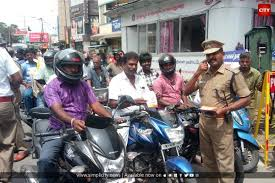helmet: (54, 45, 86, 84)
